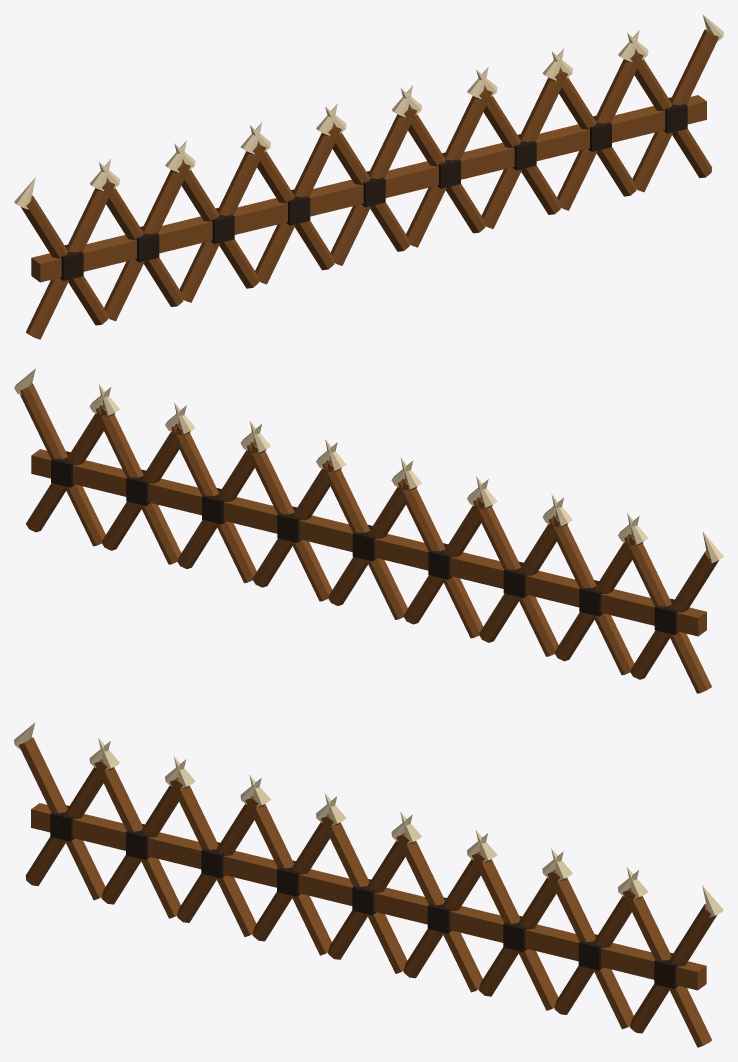
Rendered from stake.glb.
The picture shows the model from 3 angles, top to bottom: view 1: azimuth 30°, elevation 25°; view 2: azimuth 150°, elevation 25°; view 3: azimuth 330°, elevation 25°; orthographic projection.
Visible parts, largest first — view 1: 큐브, 실린더.016, 실린더, 실린더.002, 실린더.010, 실린더.014, 실린더.006, 실린더.012, 실린더.004, 실린더.008, 실린더.001, 실린더.007 (+16 smaller); view 2: 큐브, 실린더.016, 실린더, 실린더.010, 실린더.014, 실린더.004, 실린더.008, 실린더.012, 실린더.002, 실린더.006, 실린더.001, 실린더.017 (+16 smaller); view 3: 큐브, 실린더.001, 실린더.015, 실린더.003, 실린더.017, 실린더.011, 실린더.005, 실린더.007, 실린더.013, 실린더.009, 실린더.016, 실린더 (+16 smaller).
Part boxes in pixels (left/top/right/bottom): 큐브: left=31, top=95, right=706, bottom=282; 실린더.016: left=632, top=29, right=718, bottom=192; 실린더: left=26, top=180, right=114, bottom=339; 실린더.002: left=104, top=162, right=190, bottom=321; 실린더.010: left=406, top=88, right=492, bottom=247; 실린더.014: left=557, top=52, right=643, bottom=210; 실린더.006: left=255, top=125, right=341, bottom=284; 실린더.012: left=481, top=70, right=567, bottom=228; 실린더.004: left=179, top=143, right=266, bottom=302; 실린더.008: left=330, top=107, right=416, bottom=265; 실린더.001: left=21, top=195, right=107, bottom=325; 실린더.007: left=247, top=143, right=334, bottom=270; 큐브: left=31, top=449, right=706, bottom=636; 실린더.016: left=20, top=383, right=105, bottom=546; 실린더: left=624, top=534, right=711, bottom=693; 실린더.010: left=247, top=442, right=332, bottom=601; 실린더.014: left=96, top=405, right=181, bottom=564; 실린더.004: left=473, top=497, right=558, bottom=656; 실린더.008: left=322, top=461, right=407, bottom=619; 실린더.012: left=171, top=424, right=256, bottom=583; 실린더.002: left=549, top=516, right=634, bottom=675; 실린더.006: left=398, top=479, right=483, bottom=638; 실린더.001: left=630, top=550, right=718, bottom=679; 실린더.017: left=26, top=405, right=114, bottom=532; 큐브: left=31, top=803, right=706, bottom=990; 실린더.001: left=19, top=737, right=105, bottom=900; 실린더.015: left=547, top=870, right=633, bottom=1029; 실린더.003: left=94, top=760, right=180, bottom=918; 실린더.017: left=623, top=888, right=711, bottom=1047; 실린더.011: left=396, top=833, right=482, bottom=992; 실린더.005: left=170, top=778, right=256, bottom=936; 실린더.007: left=245, top=796, right=331, bottom=955; 실린더.013: left=471, top=851, right=558, bottom=1010; 실린더.009: left=321, top=815, right=407, bottom=973; 실린더.016: left=630, top=903, right=716, bottom=1033; 실린더: left=25, top=759, right=113, bottom=886.
Bounding box in the file's own units: 11.25 × 2.47 × 0.35.
